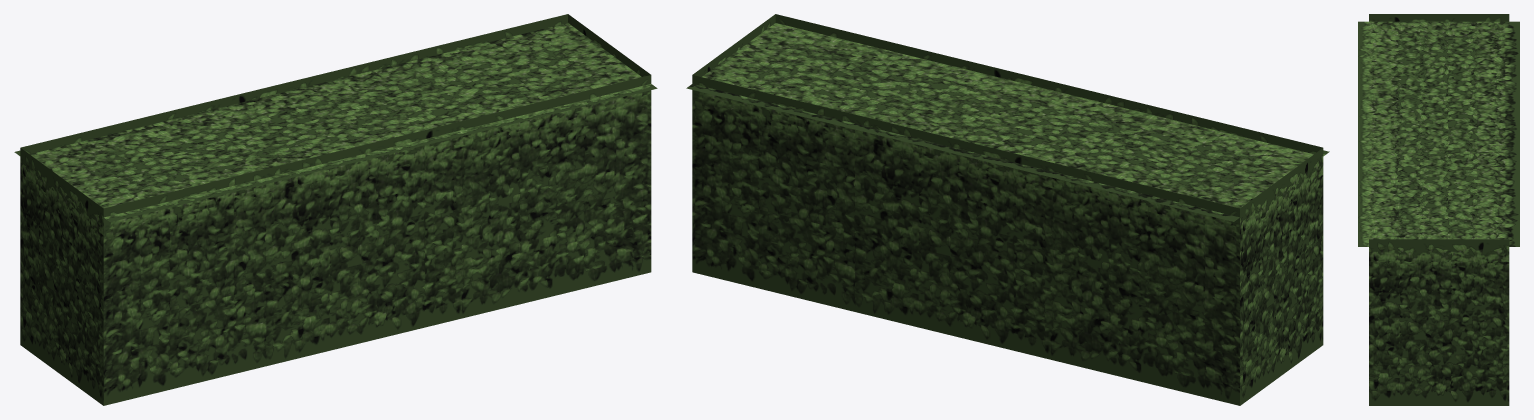
The model's file is Hedge.FBX.
The picture shows the model from 3 angles, left to right: view 1: azimuth 30°, elevation 25°; view 2: azimuth 150°, elevation 25°; view 3: azimuth 270°, elevation 25°; orthographic projection. The views are drawn at different scales.
Parts seen in each view (by area): view 1: Plane001; view 2: Plane001; view 3: Plane001.
Part boxes in pixels (box(x1,y1,x2,y2)): Plane001: box(14, 14, 657, 405); Plane001: box(686, 14, 1329, 405); Plane001: box(1358, 14, 1519, 405).
Size of the model in its own units: 7.35 by 2.53 by 2.23.
Materials: 1 (1 with a texture image).
